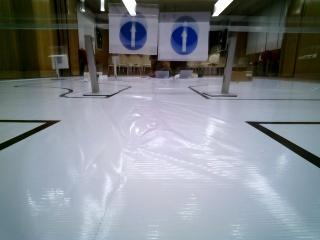straight: (158, 21, 210, 60), (109, 14, 158, 53)
